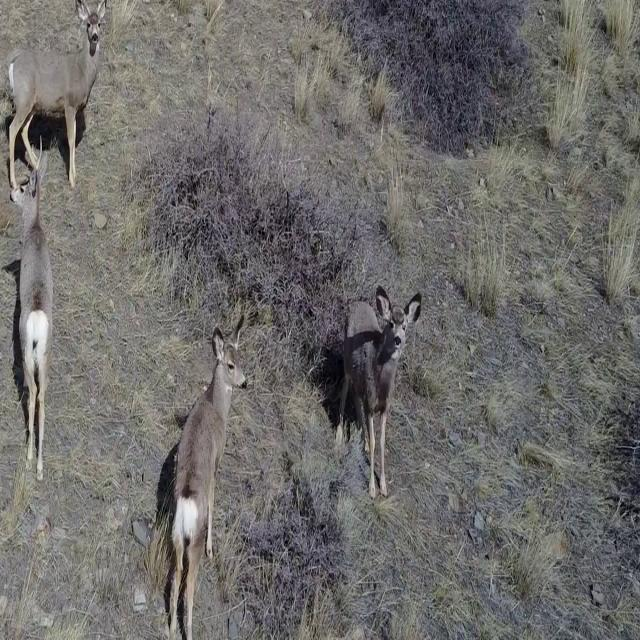Deer: (164, 316, 248, 628), (5, 8, 115, 193), (334, 286, 417, 504), (10, 145, 54, 485)
